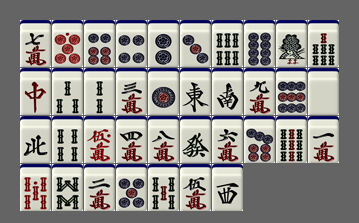0m: (84, 116, 115, 163)
0p: (52, 20, 83, 67)
0s: (20, 164, 51, 211)
1m: (308, 116, 339, 163)
1p: (148, 68, 179, 115)
1s: (276, 20, 307, 67)
1z: (180, 68, 211, 115)
2m: (84, 164, 115, 211)
2p: (148, 20, 179, 67)
2s: (84, 68, 115, 115)
2z: (212, 68, 243, 115)
3m: (116, 68, 147, 115)
3p: (180, 20, 211, 67)
3s: (52, 68, 83, 115)
3z: (212, 164, 243, 211)
4m: (116, 116, 147, 163)
4p: (116, 20, 147, 67)
4s: (52, 116, 83, 163)
4z: (20, 116, 51, 163)
5m: (180, 164, 211, 211)
5p: (116, 164, 147, 211)
5s: (148, 164, 179, 211)
5z: (308, 68, 339, 115)
6m: (212, 116, 243, 163)
6p: (84, 20, 115, 67)
6s: (212, 20, 243, 67)
6z: (180, 116, 211, 163)
7m: (20, 20, 51, 67)
7p: (244, 116, 275, 163)
7s: (308, 20, 339, 67)
7z: (20, 68, 51, 115)
8m: (148, 116, 179, 163)
8p: (244, 20, 275, 67)
8s: (52, 164, 83, 211)
9m: (244, 68, 275, 115)
9p: (276, 68, 307, 115)
9s: (276, 116, 307, 163)
